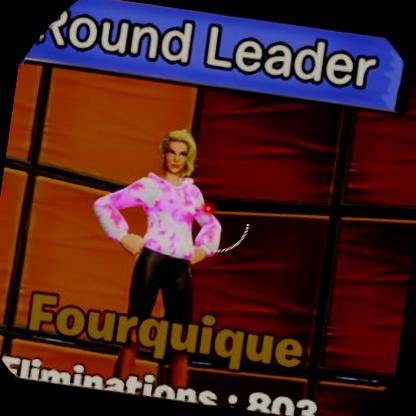person: (72, 112, 236, 364)
